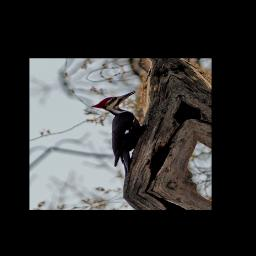Woodpecker: (88, 90, 167, 178)
